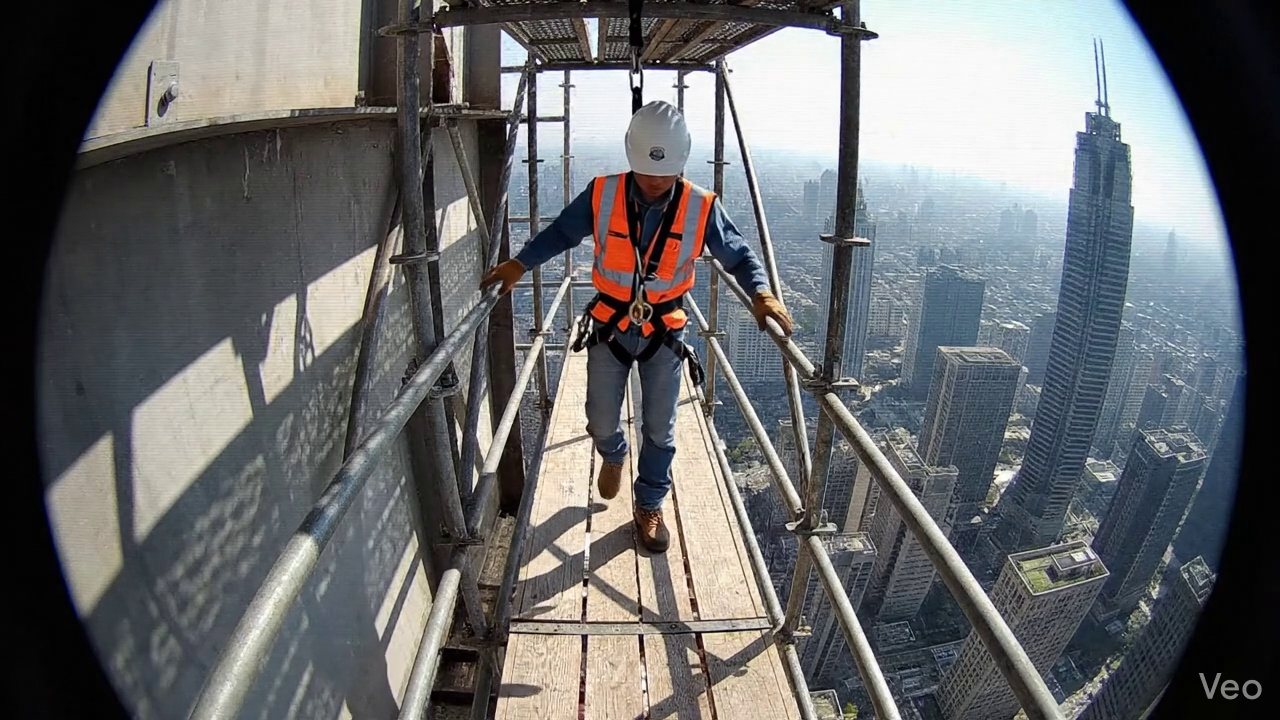person: (481, 101, 791, 552)
